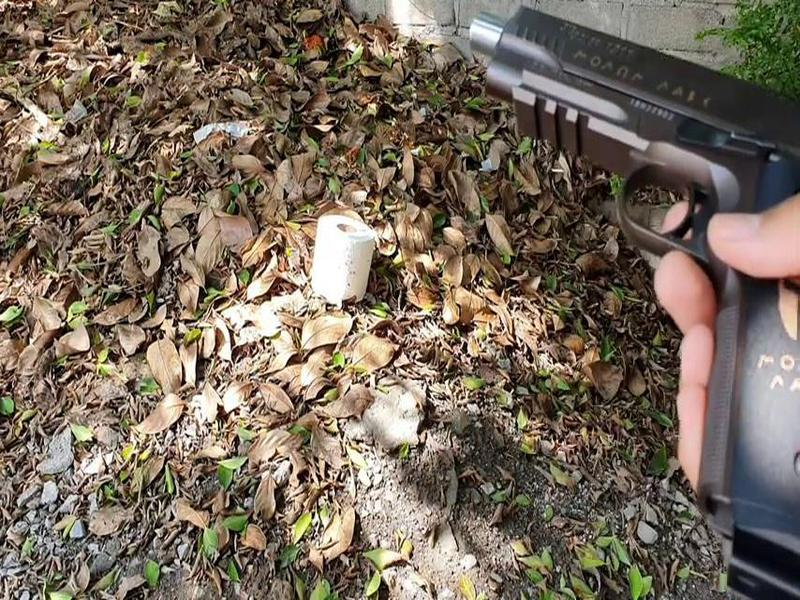Pistola: (464, 8, 797, 599)
